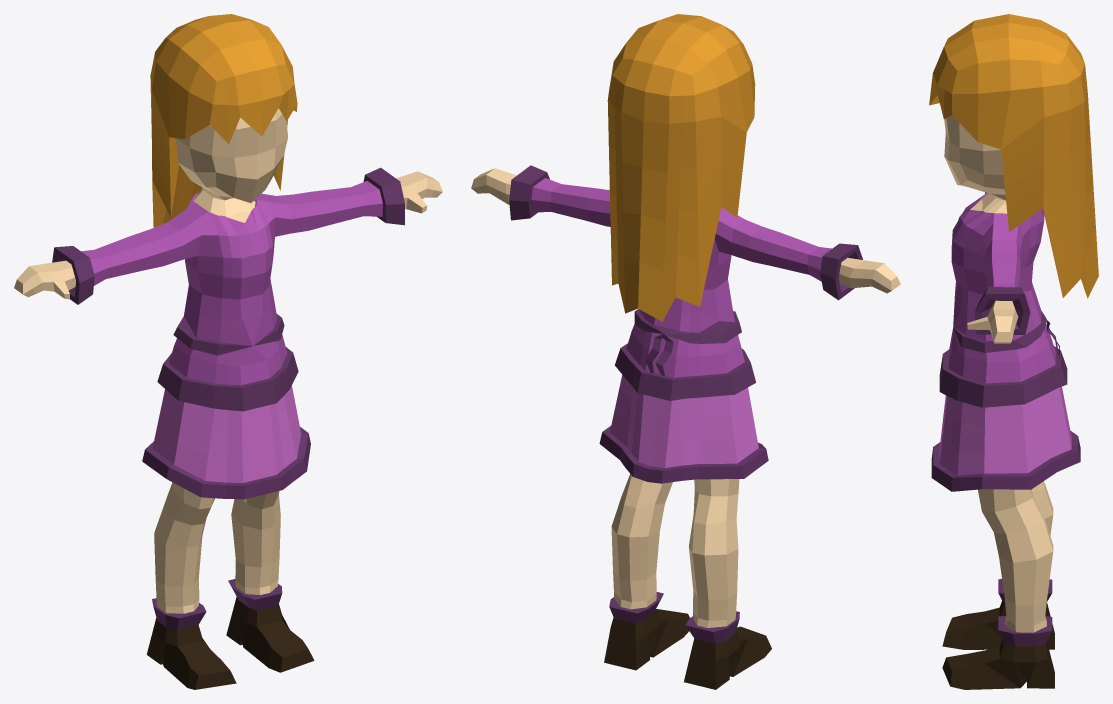
The model's file is Girl3.fbx.
3 renders of one model, left to right at view 1: azimuth 30°, elevation 25°; view 2: azimuth 150°, elevation 25°; view 3: azimuth 270°, elevation 25°, orthographic.
Parts seen in each view (by area): view 1: Cube.004; view 2: Cube.004; view 3: Cube.004.
Part boxes in pixels (x1,y1,x2,y2): Cube.004: (14,14,442,689); Cube.004: (471,14,900,689); Cube.004: (929,14,1098,689).
Size of the model in its own units: 23466 by 33901 by 8172.
